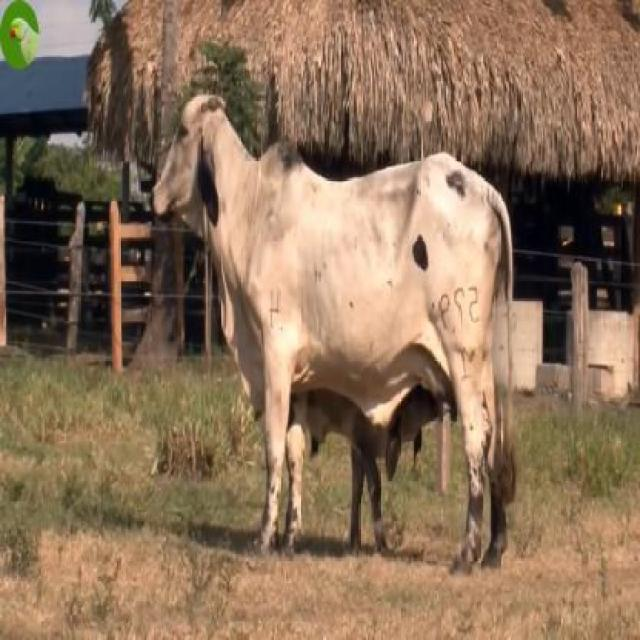Cow: (152, 92, 518, 577)
